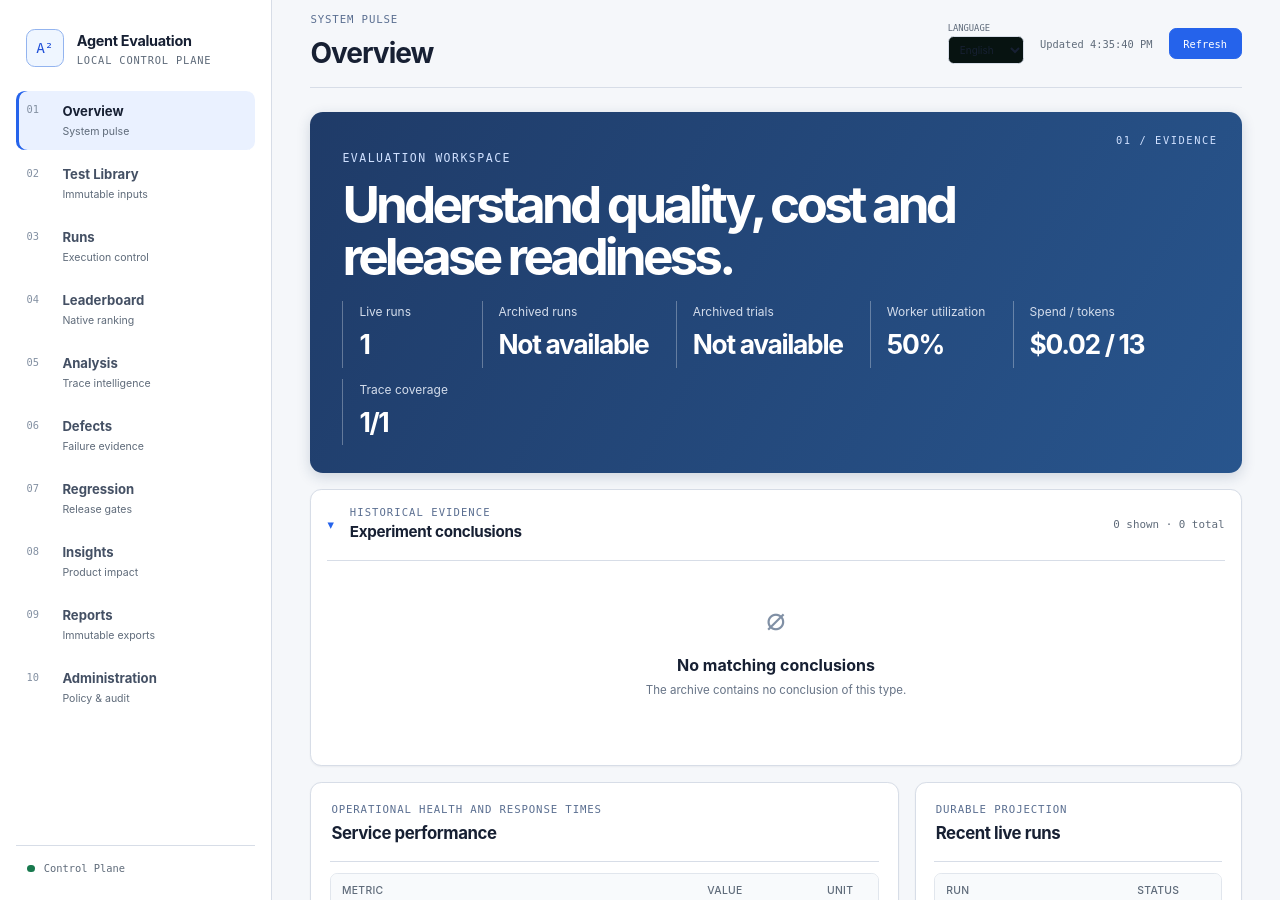
standalone evaluation dashboard › retains the last authoritative projection as explicitly stale when refresh fails
What coordinates should you click on to do the following:
click the button "Refresh"
I would click on:
 (1205, 44)
Its box is [1169,28,1242,59].
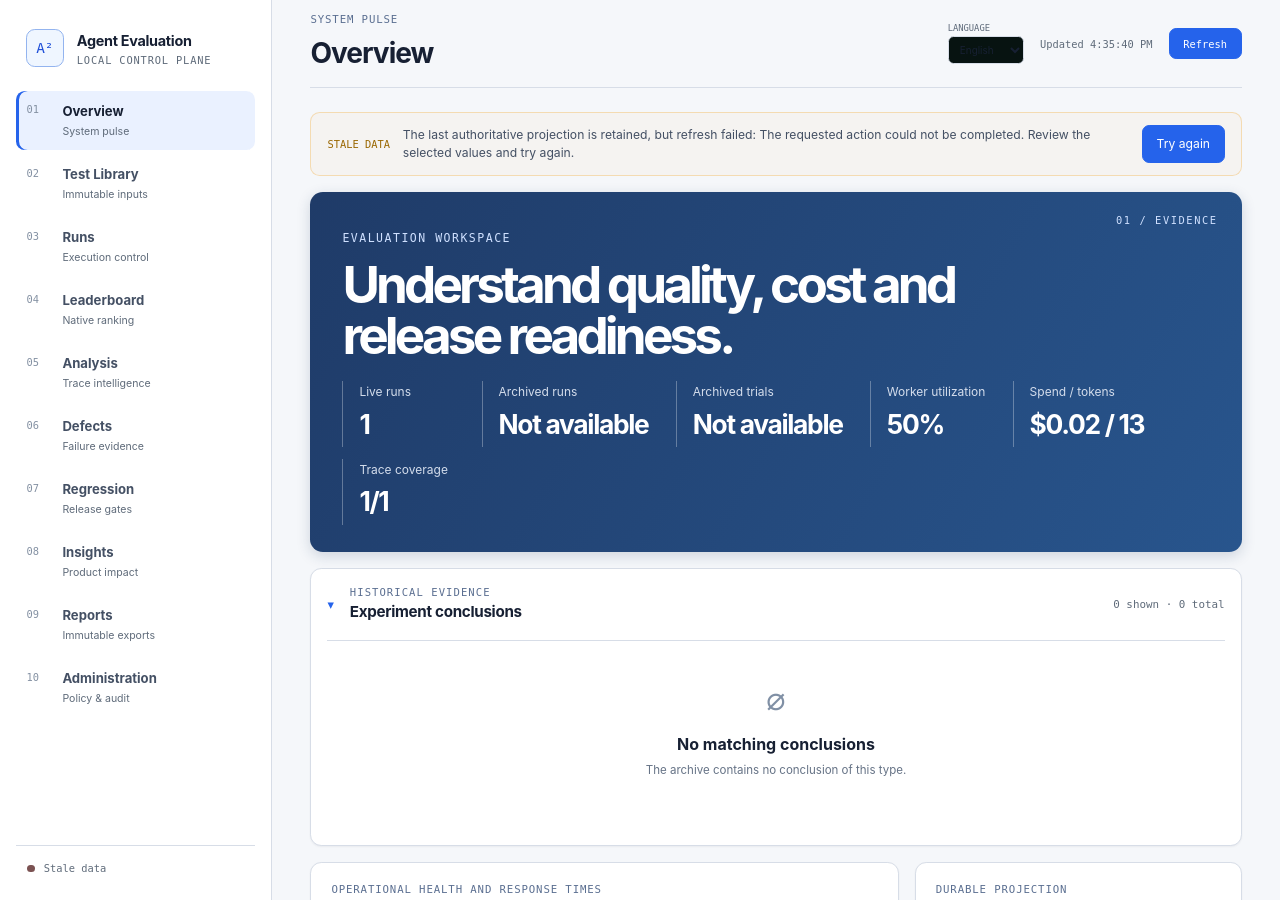
Expected: the text "Stale data" is shown 2 times, [16,845,255,878]; [327,138,390,150]
Result: the button "Try again" is shown at [1142,125,1225,163]
